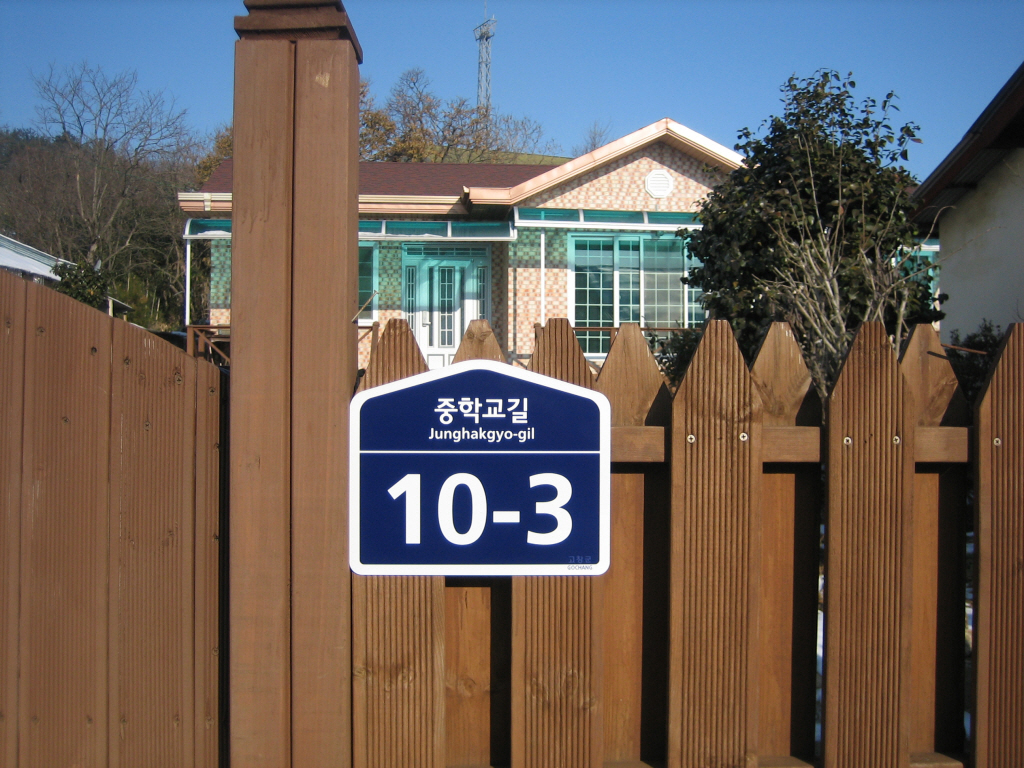building_license_plate1: (350, 359, 612, 577)
